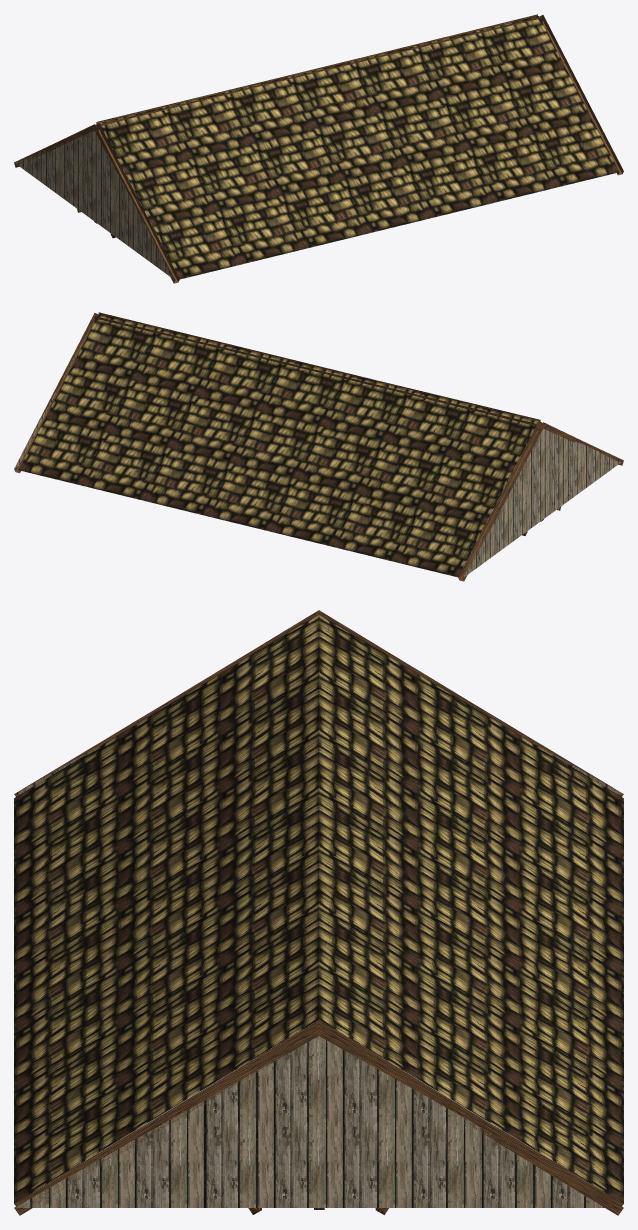
Rendered from LAKETOWN_WAREHOUSE2_PS_WH2_PLAT_ROOF847__GX.fbx.
3 views of the same model, one above another, from view 1: azimuth 30°, elevation 25°; view 2: azimuth 150°, elevation 25°; view 3: azimuth 270°, elevation 25° (orthographic). The views are drawn at different scales.
Parts seen in each view (by area): view 1: LAKETOWN_WAREHOUSE2_PS_WH2_PLAT_ROOF847__GX; view 2: LAKETOWN_WAREHOUSE2_PS_WH2_PLAT_ROOF847__GX; view 3: LAKETOWN_WAREHOUSE2_PS_WH2_PLAT_ROOF847__GX.
Boxes of the visible parts, x1,y1,x2,y2 form: LAKETOWN_WAREHOUSE2_PS_WH2_PLAT_ROOF847__GX: (14, 14, 623, 283); LAKETOWN_WAREHOUSE2_PS_WH2_PLAT_ROOF847__GX: (14, 312, 623, 581); LAKETOWN_WAREHOUSE2_PS_WH2_PLAT_ROOF847__GX: (14, 610, 623, 1215).
Size of the model in its own units: 361440 by 78346 by 225235.
Materials: 5 (5 with a texture image).
